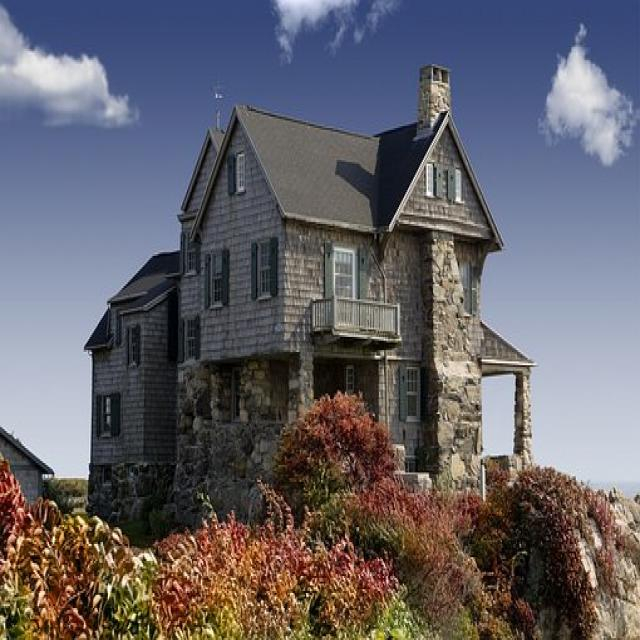Normal_building: (80, 81, 536, 568)
